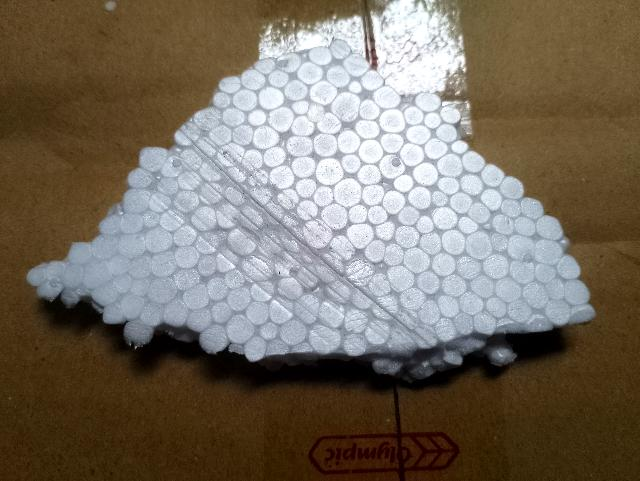cocksheet: (89, 23, 574, 349)
